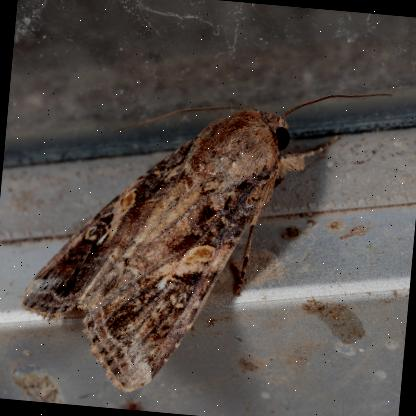Fall Armyworm Moth: (12, 59, 396, 416)
